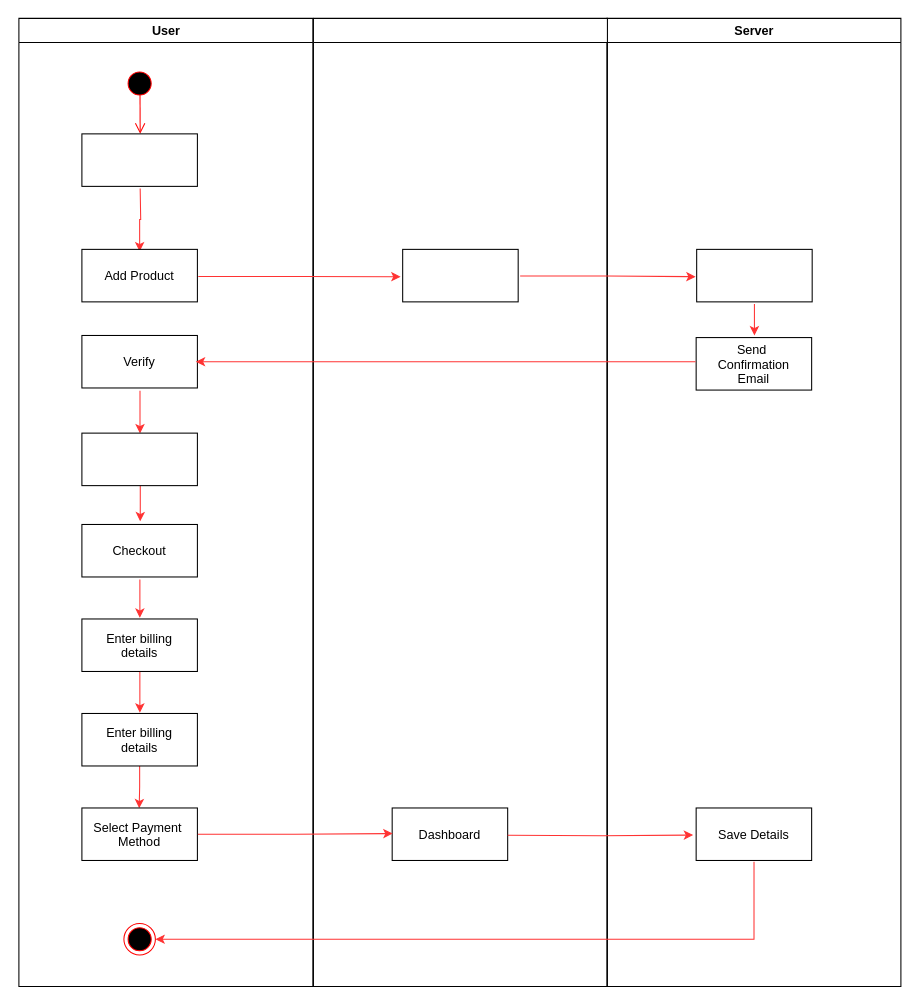
The diagram is 919 pixels wide and 1005 high, and some of its shapes have lost their labels. Each missing label, with the box of its shape:
Add Products to cart: (81, 432, 197, 486)
Receive Registration Request: (696, 248, 812, 302)
Redirect: (312, 17, 607, 986)
Register: (402, 248, 518, 302)
View Products: (81, 133, 197, 186)
